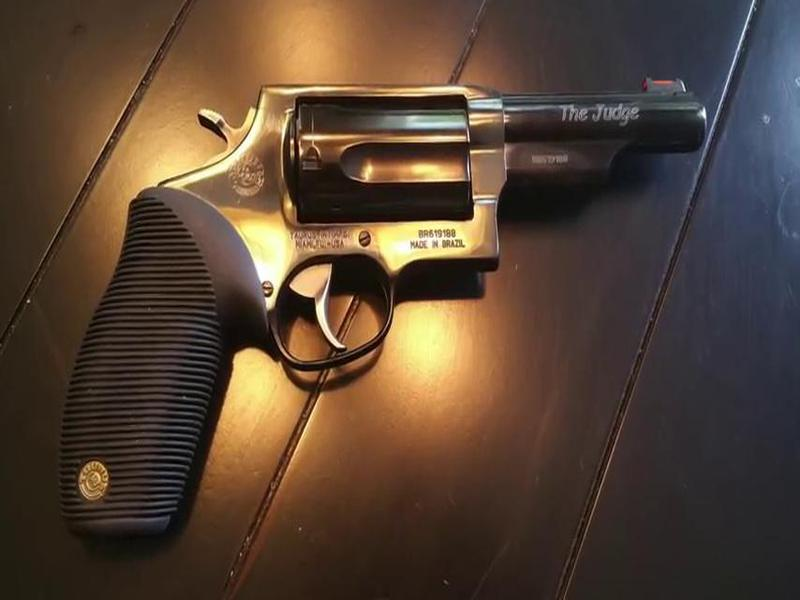Revolver: (95, 43, 714, 407)
